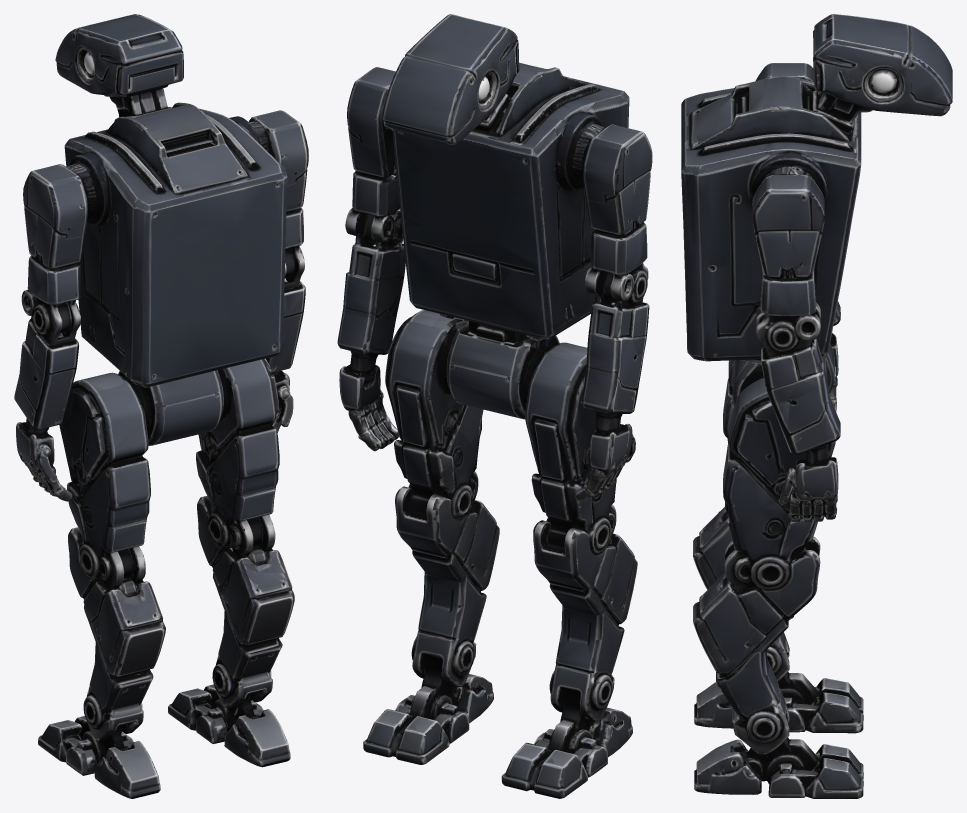
File: sentry.glb
3 views of the same model, side by side, from view 1: azimuth 30°, elevation 25°; view 2: azimuth 150°, elevation 25°; view 3: azimuth 270°, elevation 25° (orthographic). The views are drawn at different scales.
Parts seen in each view (by area): view 1: sentry; view 2: sentry; view 3: sentry.
Boxes of the visible parts, box(x1,y1,x2,y2) form: sentry: box(14, 14, 308, 798); sentry: box(337, 14, 652, 798); sentry: box(681, 14, 952, 798).
Size of the model in its own units: 0.3912 by 1 by 0.3393.
Materials: 1 (1 with a texture image).
